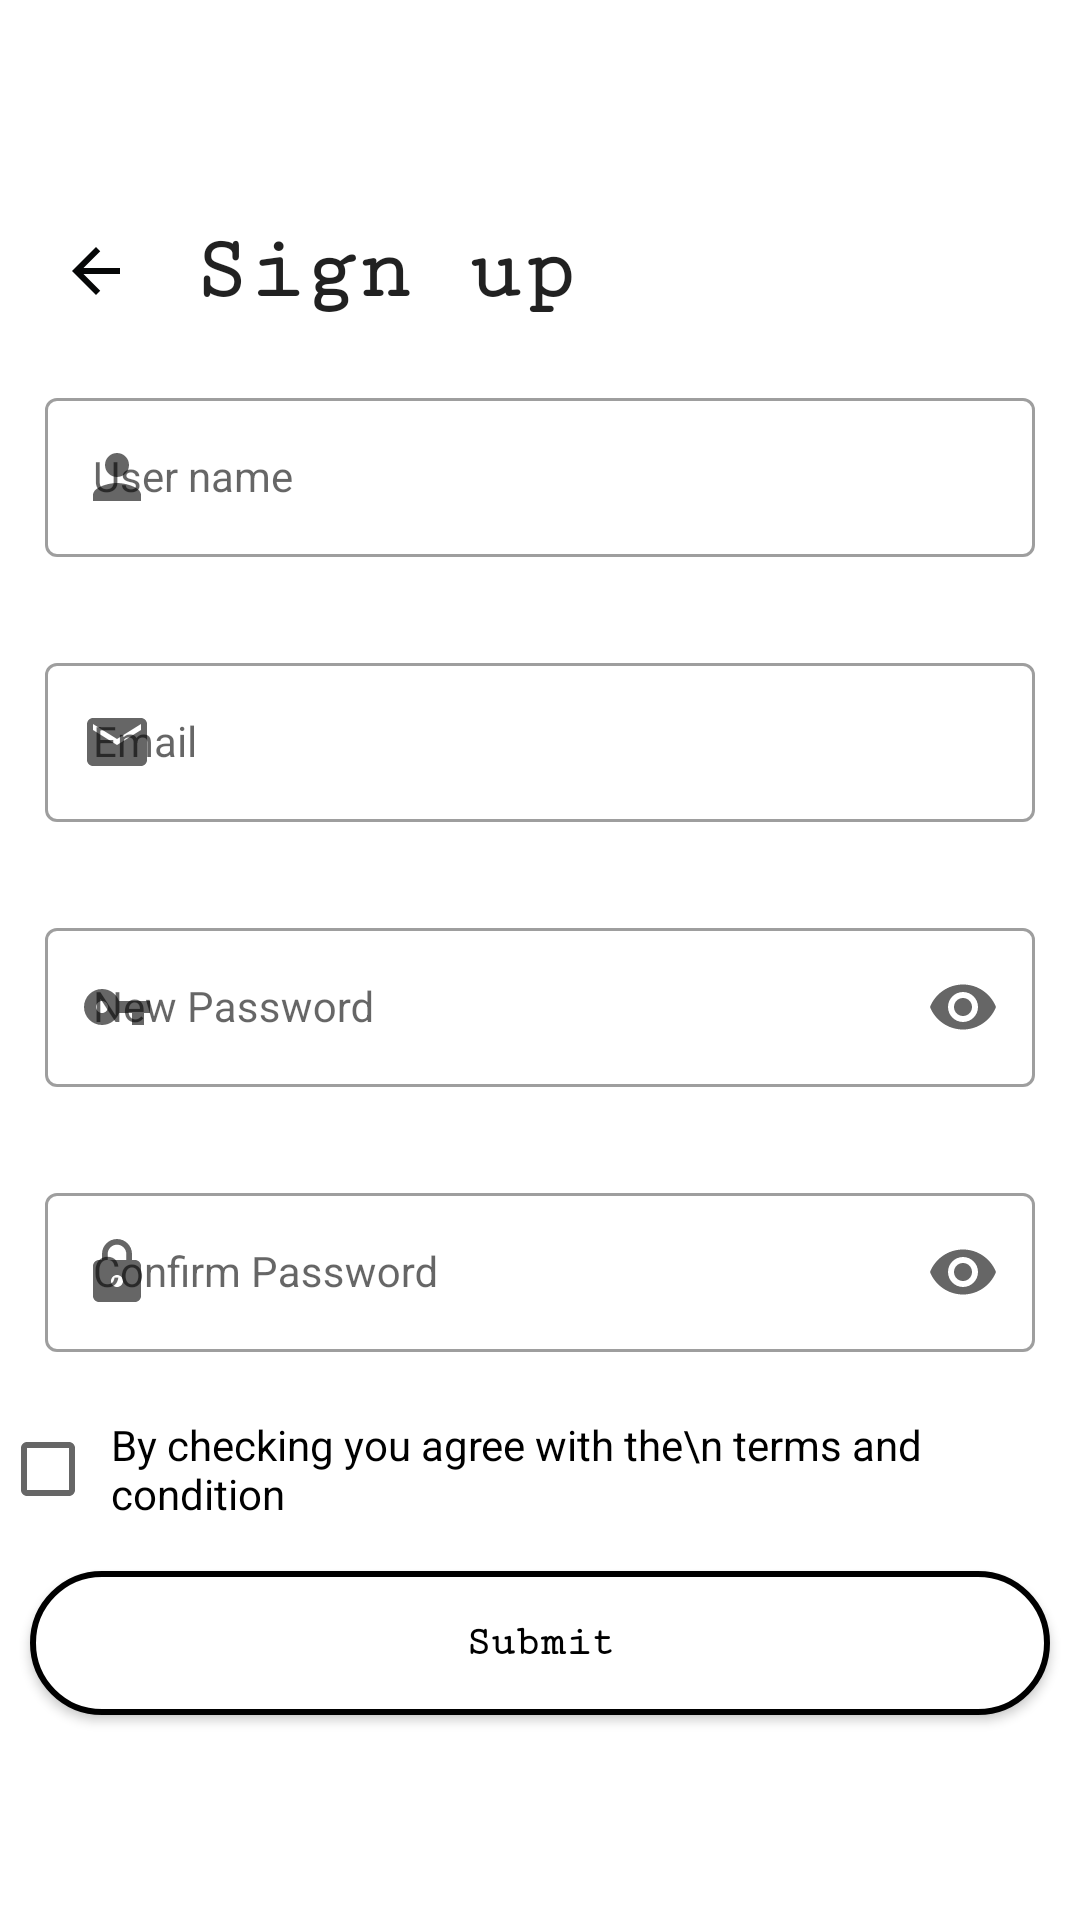

Where icons sit on this 1080px×1920px app screen, as {"x1": x1, "y1": y1, "x2": x2, "y2": y2}:
back arrow: {"x1": 72, "y1": 247, "x2": 120, "y2": 295}
